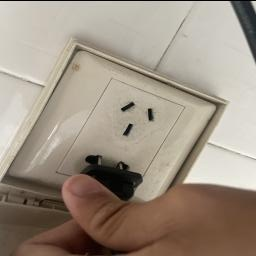outlet: (3, 30, 232, 224)
